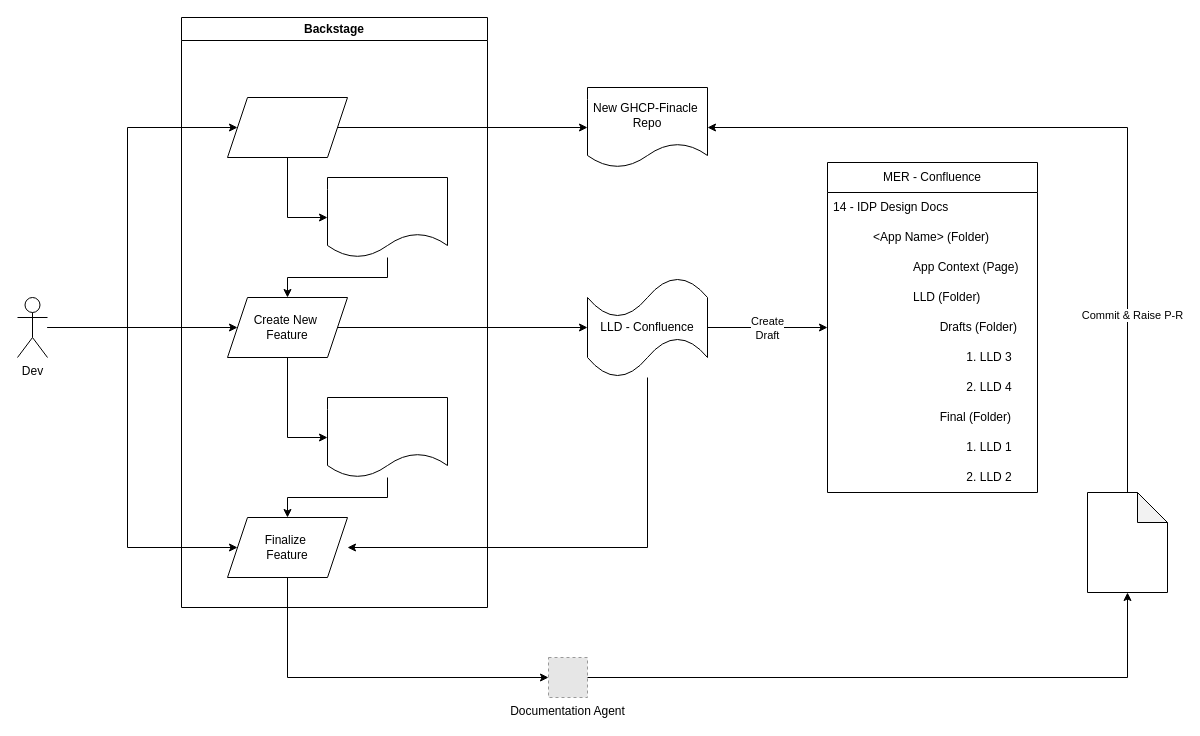
The diagram is 1200 pixels wide and 736 high, and some of its shapes have lost their labels. Grey dashed boxes stand in for pictures. The shapes that lost their labels are listed below. From the top down, each one's centre as x and y in pixels, then its label:
At pixel 287 127: "Create New App".
At pixel 387 217: "App Manifest".
At pixel 387 437: "Feature Manifest".
At pixel 1127 542: "requirement MD".
